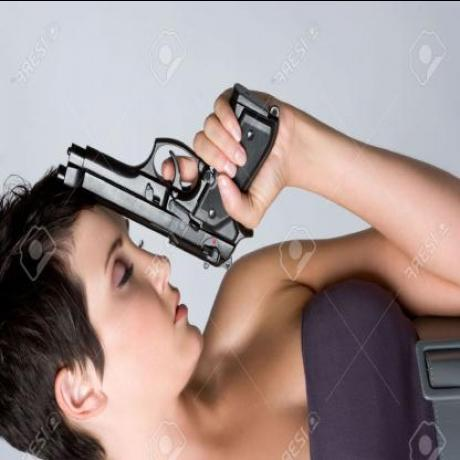1: (0, 89, 460, 460)
weapon: (52, 84, 278, 274)
